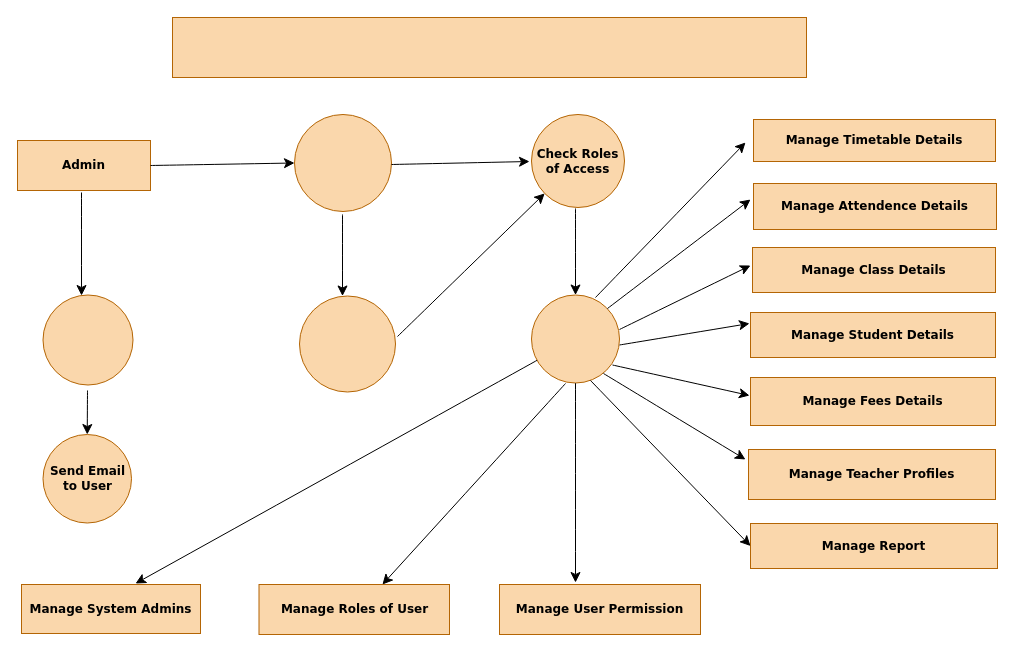
Image size: 1015x652. Some labels were removed from this diagram. Here are the shapes that lost their labels. From the top down, the centre of each, then its label:
At [489,47]: "Student Infotmation System".
At [343,163]: "Login to System".
At [87,339]: "Frogot Password".
At [347,343]: "Check Credentials".
At [575,338]: "Manage Modules".
